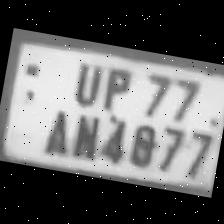4: (94, 110, 132, 165)
7: (176, 122, 215, 181), (162, 70, 203, 124), (133, 66, 173, 118), (151, 120, 186, 175)
8: (122, 116, 160, 169)
A: (35, 101, 77, 158)
N: (66, 105, 104, 160)
P: (94, 60, 138, 114)
U: (64, 54, 106, 108)
